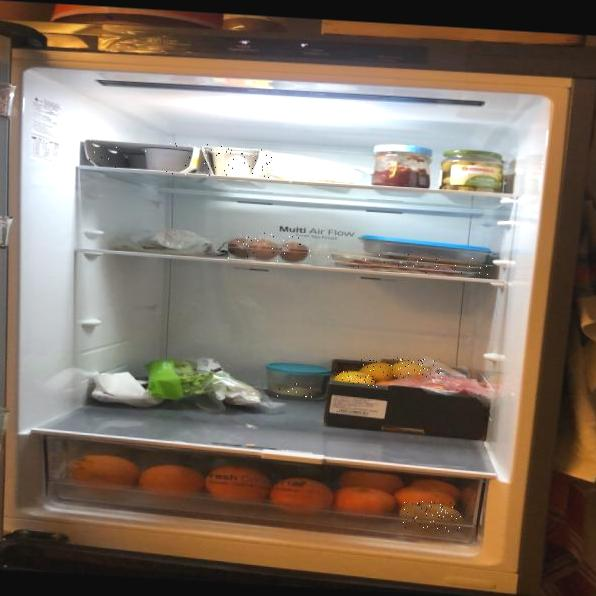cheese: (273, 382, 316, 399)
eggs: (228, 231, 312, 266)
ham: (326, 249, 489, 280)
lemon: (393, 357, 442, 380), (334, 370, 377, 387), (360, 360, 394, 381)
potatoes: (401, 500, 461, 532)
yoghurt: (89, 138, 203, 176), (200, 144, 276, 181)
